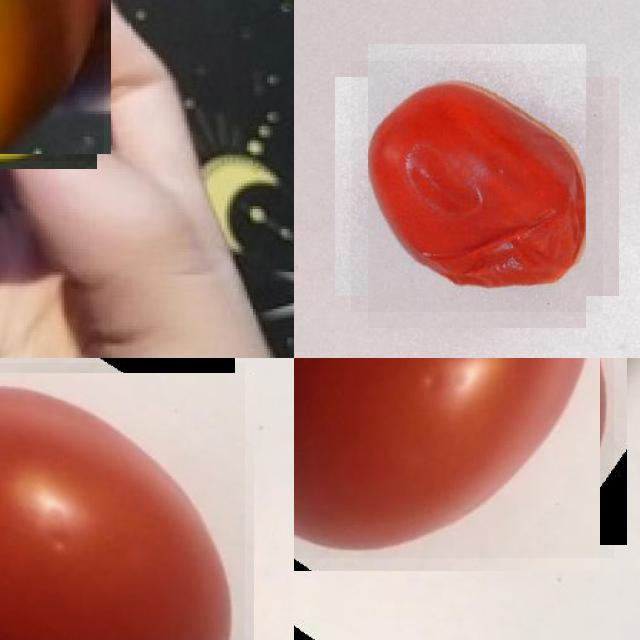Fresh Tomato: (0, 363, 245, 640), (294, 358, 613, 558)
Rotten Tomato: (351, 61, 603, 312)
